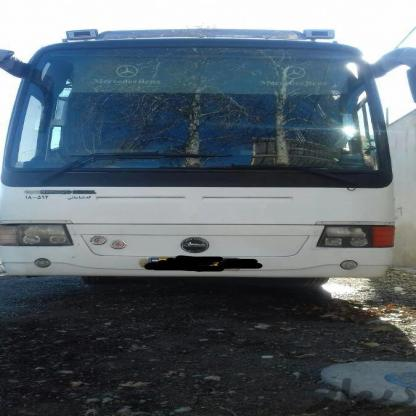Bus: (0, 0, 416, 311)
